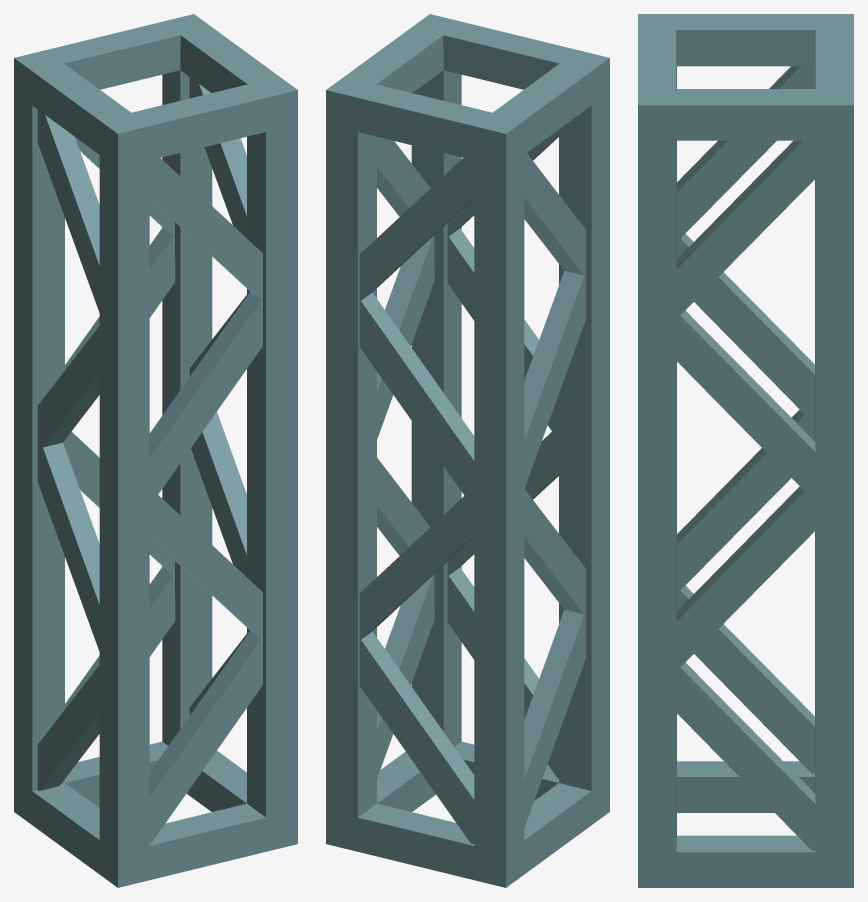
File: Pillar.fbx
3 renders of one model, left to right at view 1: azimuth 30°, elevation 25°; view 2: azimuth 150°, elevation 25°; view 3: azimuth 270°, elevation 25°, orthographic. The views are drawn at different scales.
Parts seen in each view (by area): view 1: Pillar; view 2: Pillar; view 3: Pillar.
Boxes of the visible parts, left/top/right/bottom form: Pillar: left=14, top=14, right=297, bottom=887; Pillar: left=326, top=14, right=609, bottom=887; Pillar: left=638, top=14, right=853, bottom=887.
Bounding box in the file's own units: 1 × 4 × 1.
